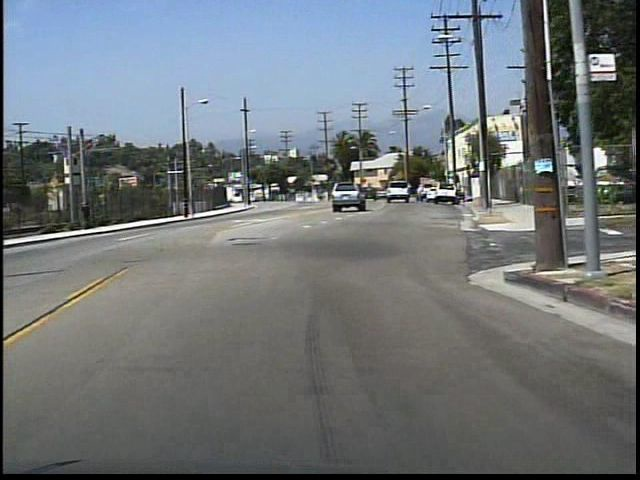person: (83, 198, 98, 232)
